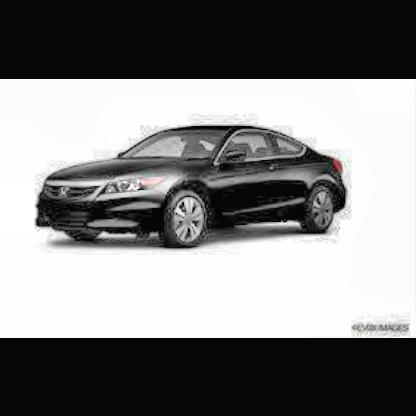Honda Accord Coupe 2012: (38, 127, 351, 247)
